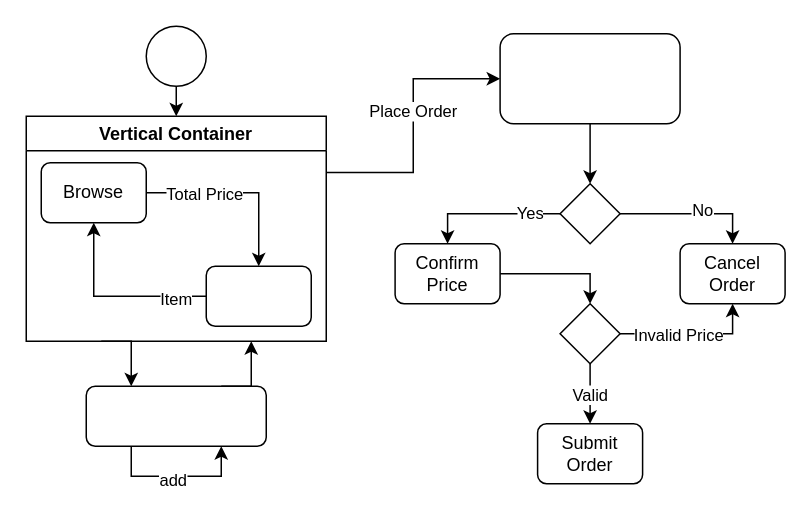
Image size: 812x516. Some labels were removed from this diagram. The centre of each missing label's shape, as x and y in pixels:
Coupon: (x=175, y=415)
ListPrice: (x=258, y=295)
Verifying: (x=589, y=78)
